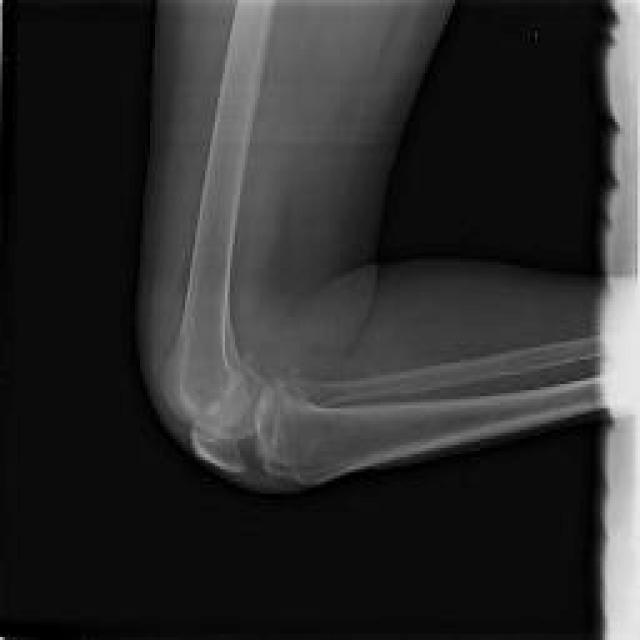normal: (162, 0, 276, 472), (260, 331, 608, 482)
